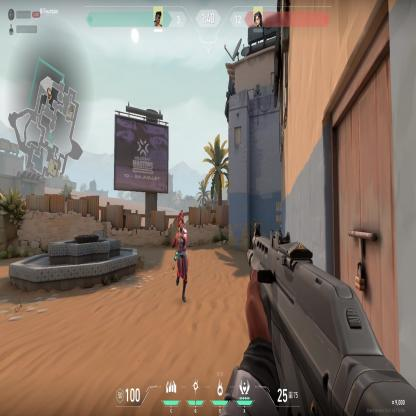enemy: (172, 209, 190, 306)
